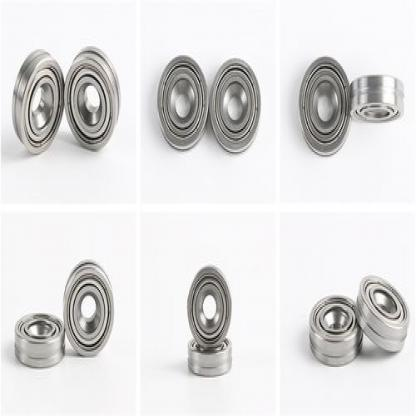FOD: (9, 48, 65, 160), (65, 45, 121, 153), (156, 48, 209, 156), (210, 51, 263, 159), (297, 54, 351, 158), (61, 257, 116, 359), (354, 271, 412, 355), (184, 266, 234, 352), (307, 293, 365, 366), (12, 307, 65, 370), (350, 66, 405, 126), (185, 332, 233, 379)
